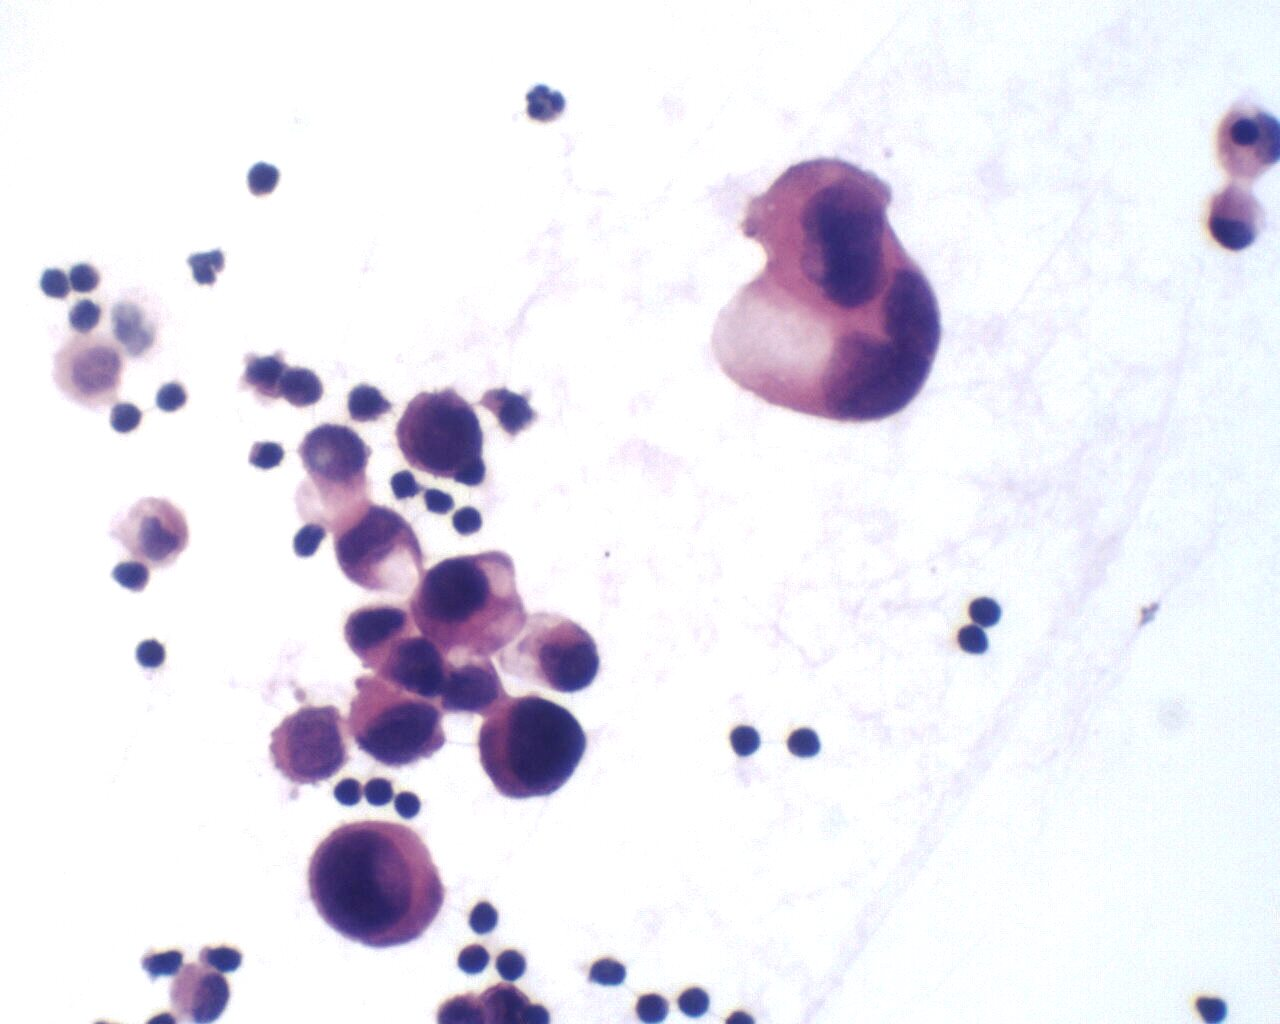ab: (711, 149, 942, 430), (305, 818, 444, 952), (475, 689, 589, 802), (391, 385, 489, 479), (347, 680, 450, 768)
lymph: (785, 721, 833, 768), (723, 717, 769, 766), (494, 944, 539, 990), (133, 632, 176, 679), (675, 980, 718, 1020), (38, 260, 76, 303), (468, 897, 506, 940), (108, 396, 147, 437), (451, 498, 489, 541), (963, 589, 1006, 626), (362, 771, 397, 813)
meso: (1200, 184, 1272, 257)
neutro: (520, 77, 571, 130)
